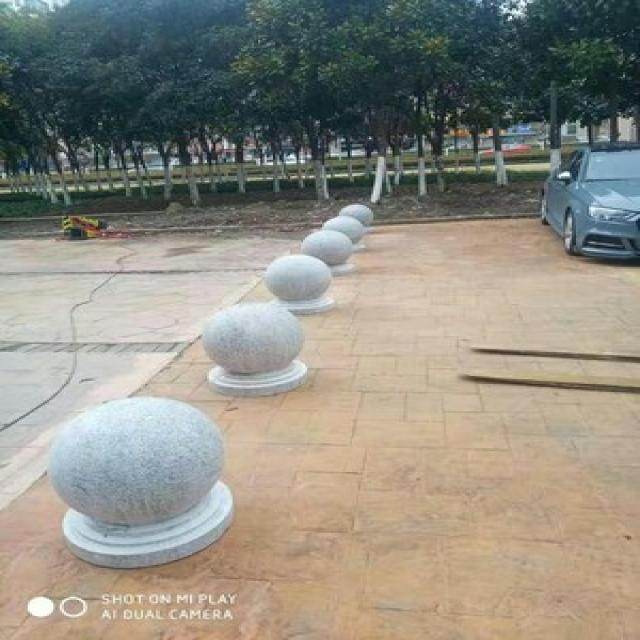car: (535, 139, 638, 258)
spherical_roadblock: (47, 395, 237, 568), (200, 300, 310, 390), (264, 252, 333, 314), (299, 227, 354, 272)
